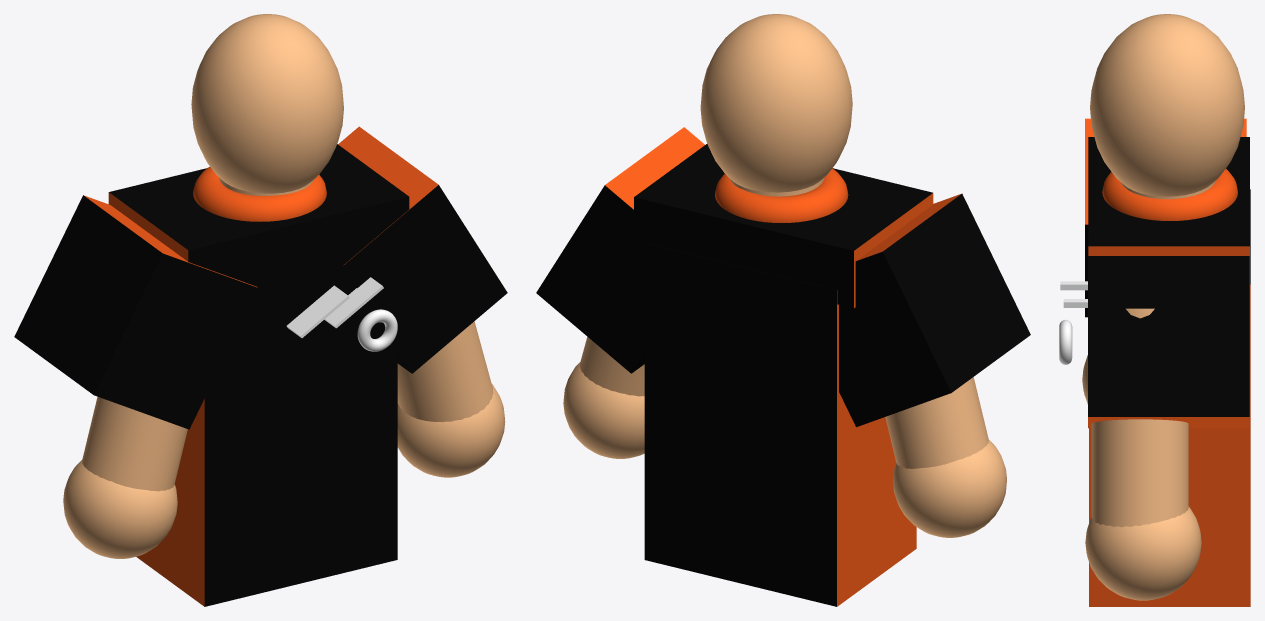
3 renders of one model, left to right at view 1: azimuth 30°, elevation 25°; view 2: azimuth 150°, elevation 25°; view 3: azimuth 270°, elevation 25°, orthographic.
Parts seen in each view (by area): view 1: mesh_0_4, object 40, mesh_3_4, mesh_3_2, mesh_2_4, mesh_1_4, mesh_1_2, object 43, object 42, object 41, mesh_0_1, object 44 (+7 smaller); view 2: mesh_0_5, object 40, mesh_3_2, mesh_3_5, mesh_2_5, mesh_0_1, mesh_1_5, mesh_1_2, object 43, object 42, object 44, mesh_7 (+4 smaller); view 3: mesh_2_2, object 40, mesh_0, object 41, object 44, mesh_1_2, mesh_7, mesh_1, mesh_2, mesh_4, mesh_3, object 39.
Part boxes in pixels (box(x1,y1,x2,y2)): mesh_0_4: box(204, 270, 397, 606); object 40: box(191, 14, 343, 193); mesh_3_4: box(94, 253, 257, 429); mesh_3_2: box(14, 195, 162, 394); mesh_2_4: box(343, 185, 507, 373); mesh_1_4: box(188, 196, 409, 291); mesh_1_2: box(109, 144, 408, 250); object 43: box(63, 459, 177, 558); object 42: box(82, 396, 187, 491); object 41: box(397, 321, 493, 422); mesh_0_1: box(136, 399, 204, 606); object 44: box(397, 384, 505, 477); mesh_0_5: box(644, 243, 836, 606); object 40: box(700, 14, 852, 192); mesh_3_2: box(883, 193, 1030, 392); mesh_3_5: box(839, 251, 951, 427); mesh_2_5: box(536, 185, 644, 373); mesh_0_1: box(837, 290, 916, 606); mesh_1_5: box(634, 197, 853, 308); mesh_1_2: box(634, 144, 932, 250); object 43: box(893, 440, 1006, 537); object 42: box(885, 377, 988, 468); object 44: box(563, 362, 644, 458); mesh_7: box(715, 168, 848, 222); mesh_2_2: box(1088, 256, 1249, 416); object 40: box(1090, 14, 1244, 196); mesh_0: box(1089, 284, 1250, 606); object 41: box(1091, 308, 1188, 527); object 44: box(1085, 506, 1201, 600); mesh_1_2: box(1088, 137, 1249, 246); mesh_7: box(1102, 169, 1237, 220); mesh_1: box(1088, 246, 1249, 304); mesh_2: box(1088, 417, 1249, 428); mesh_4: box(1059, 319, 1072, 364); mesh_3: box(1085, 118, 1246, 224); object 39: box(1120, 181, 1215, 199).
Bounding box in the file's own units: 1.57 × 1.85 × 0.5925.
